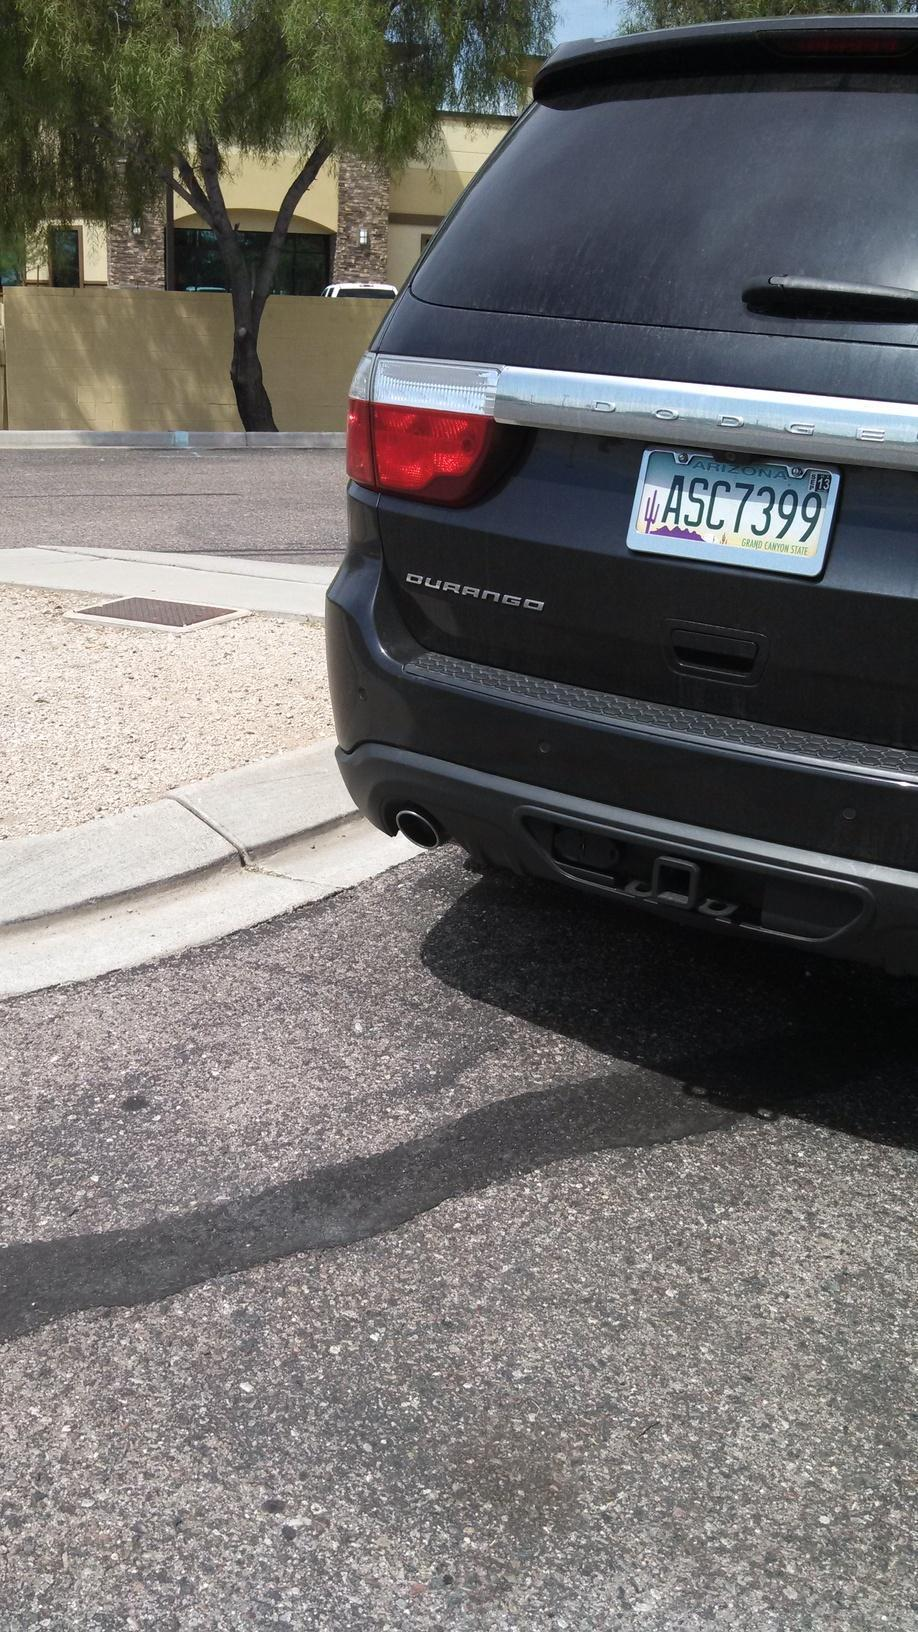placa de veiculo: (609, 423, 867, 598)
